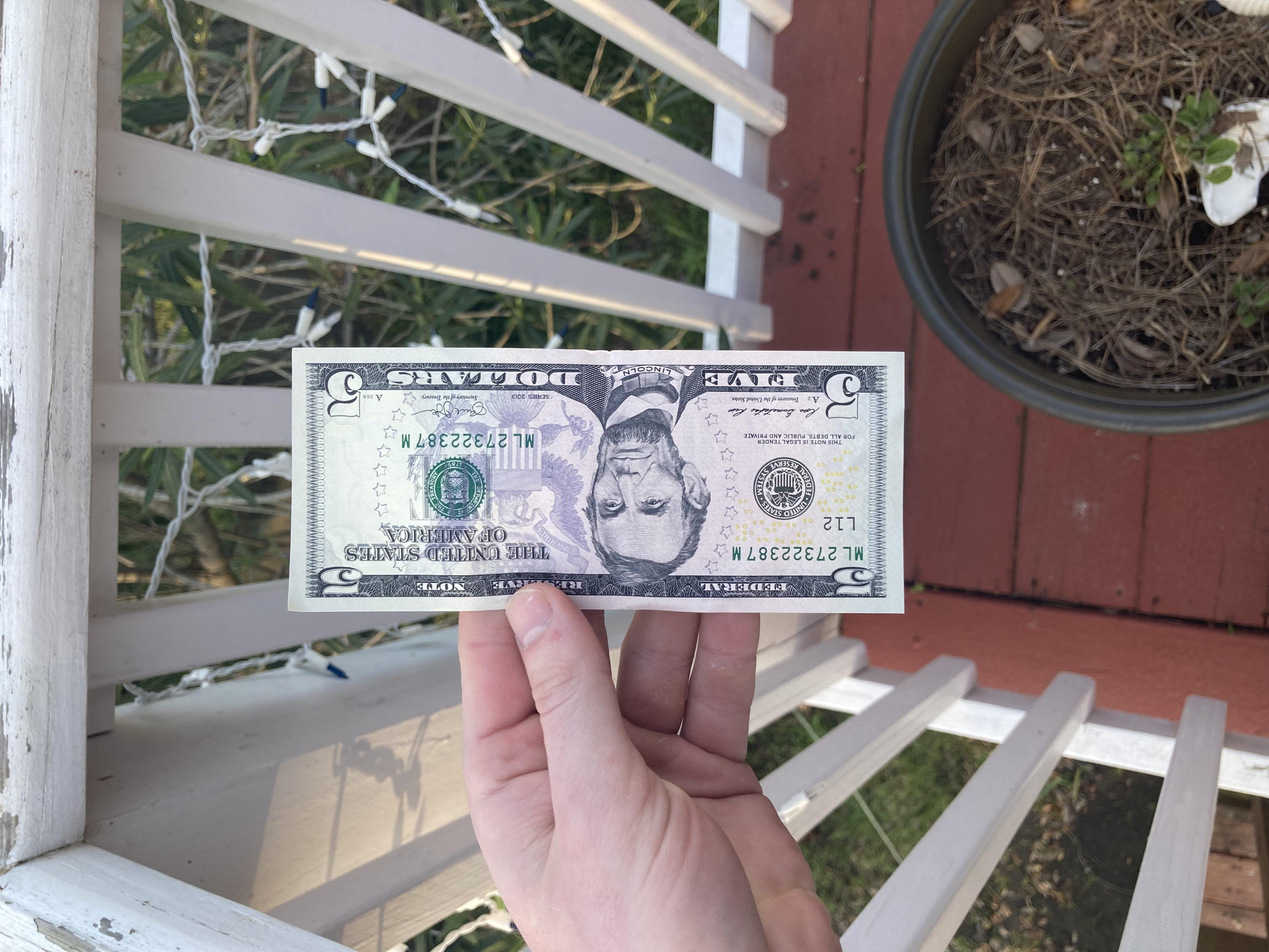five-front: (451, 220, 805, 678)
